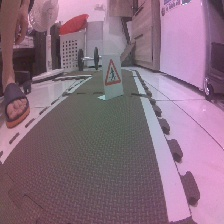pedestrian: (104, 59, 121, 90)
